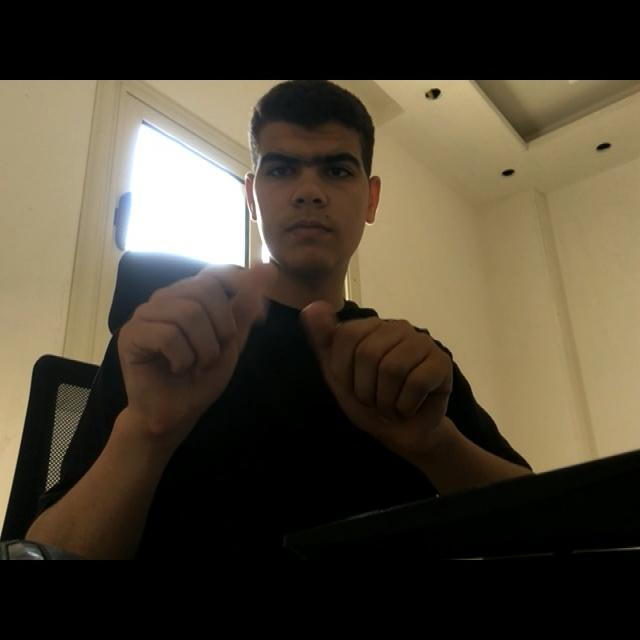No: (100, 250, 498, 498)
